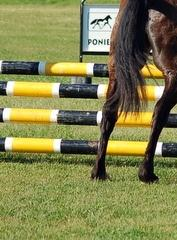horse: (87, 0, 177, 187)
person: (133, 0, 177, 44)
